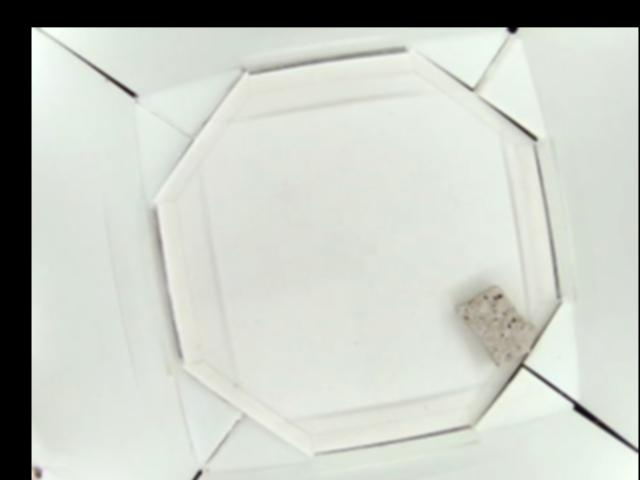China: (457, 285, 537, 364)
